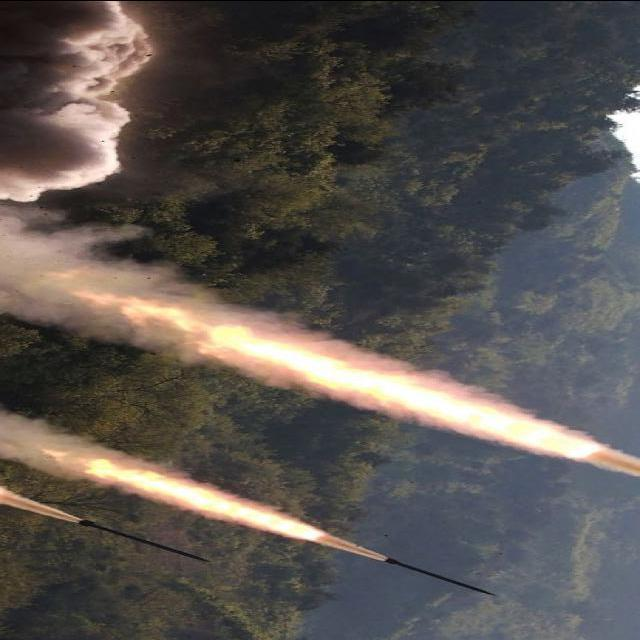Missile: (64, 516, 217, 564), (381, 553, 509, 601)
